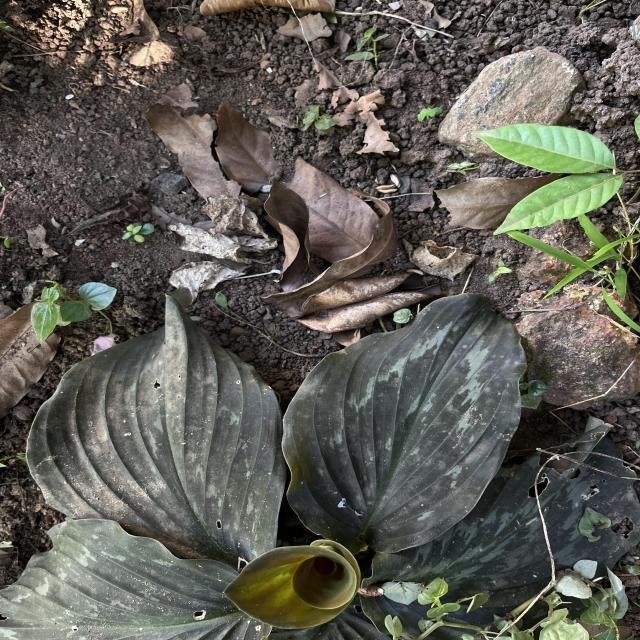Kaempferia galanga linn: (24, 286, 291, 568), (278, 290, 530, 557)
